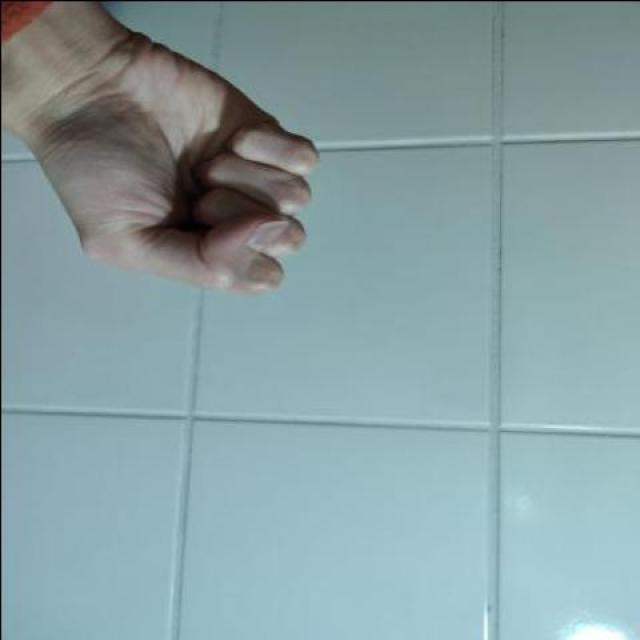Closed Hand: (5, 2, 315, 314)
